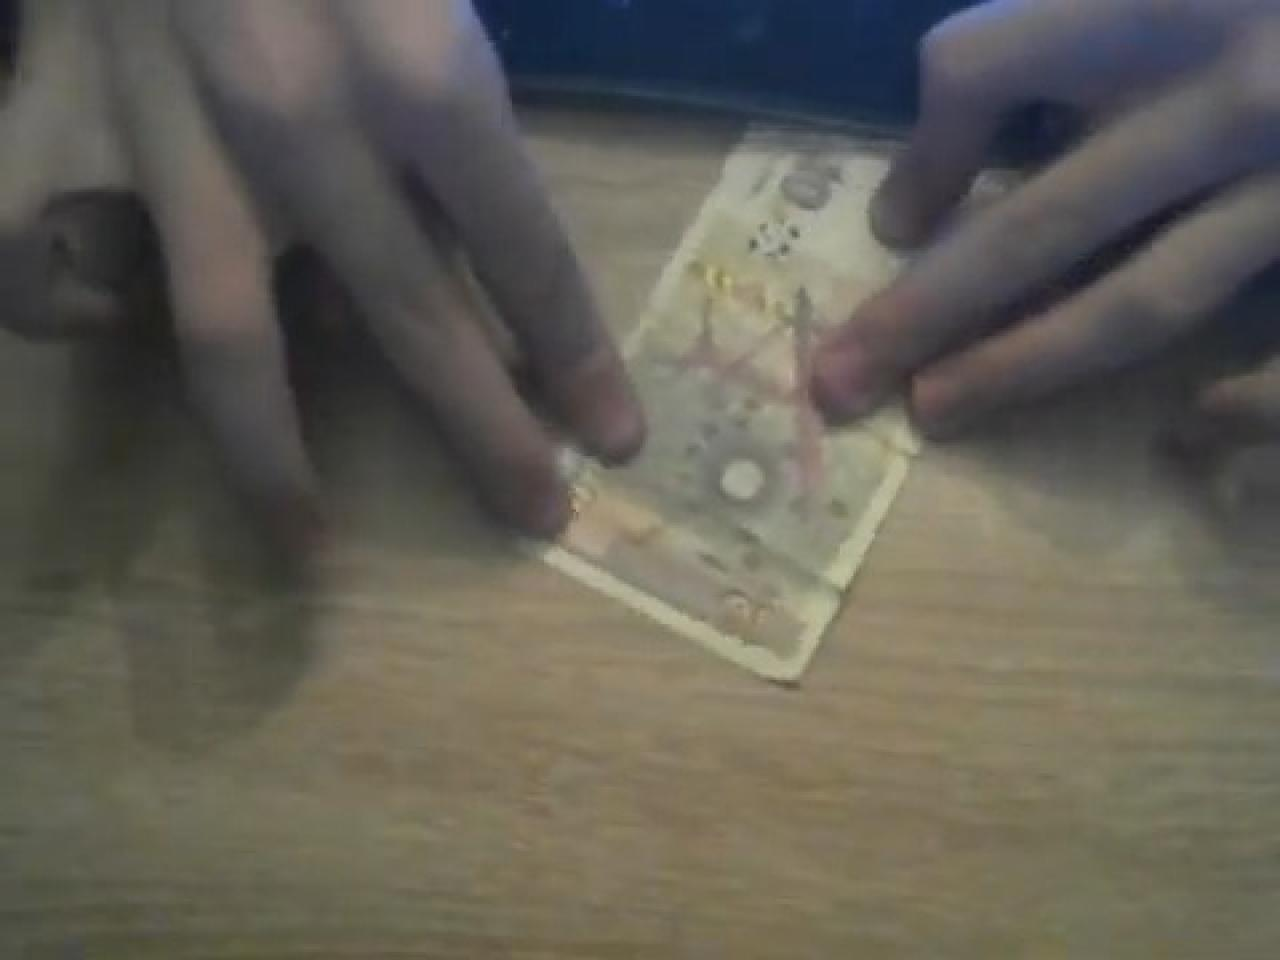10leva: (538, 123, 920, 688)
